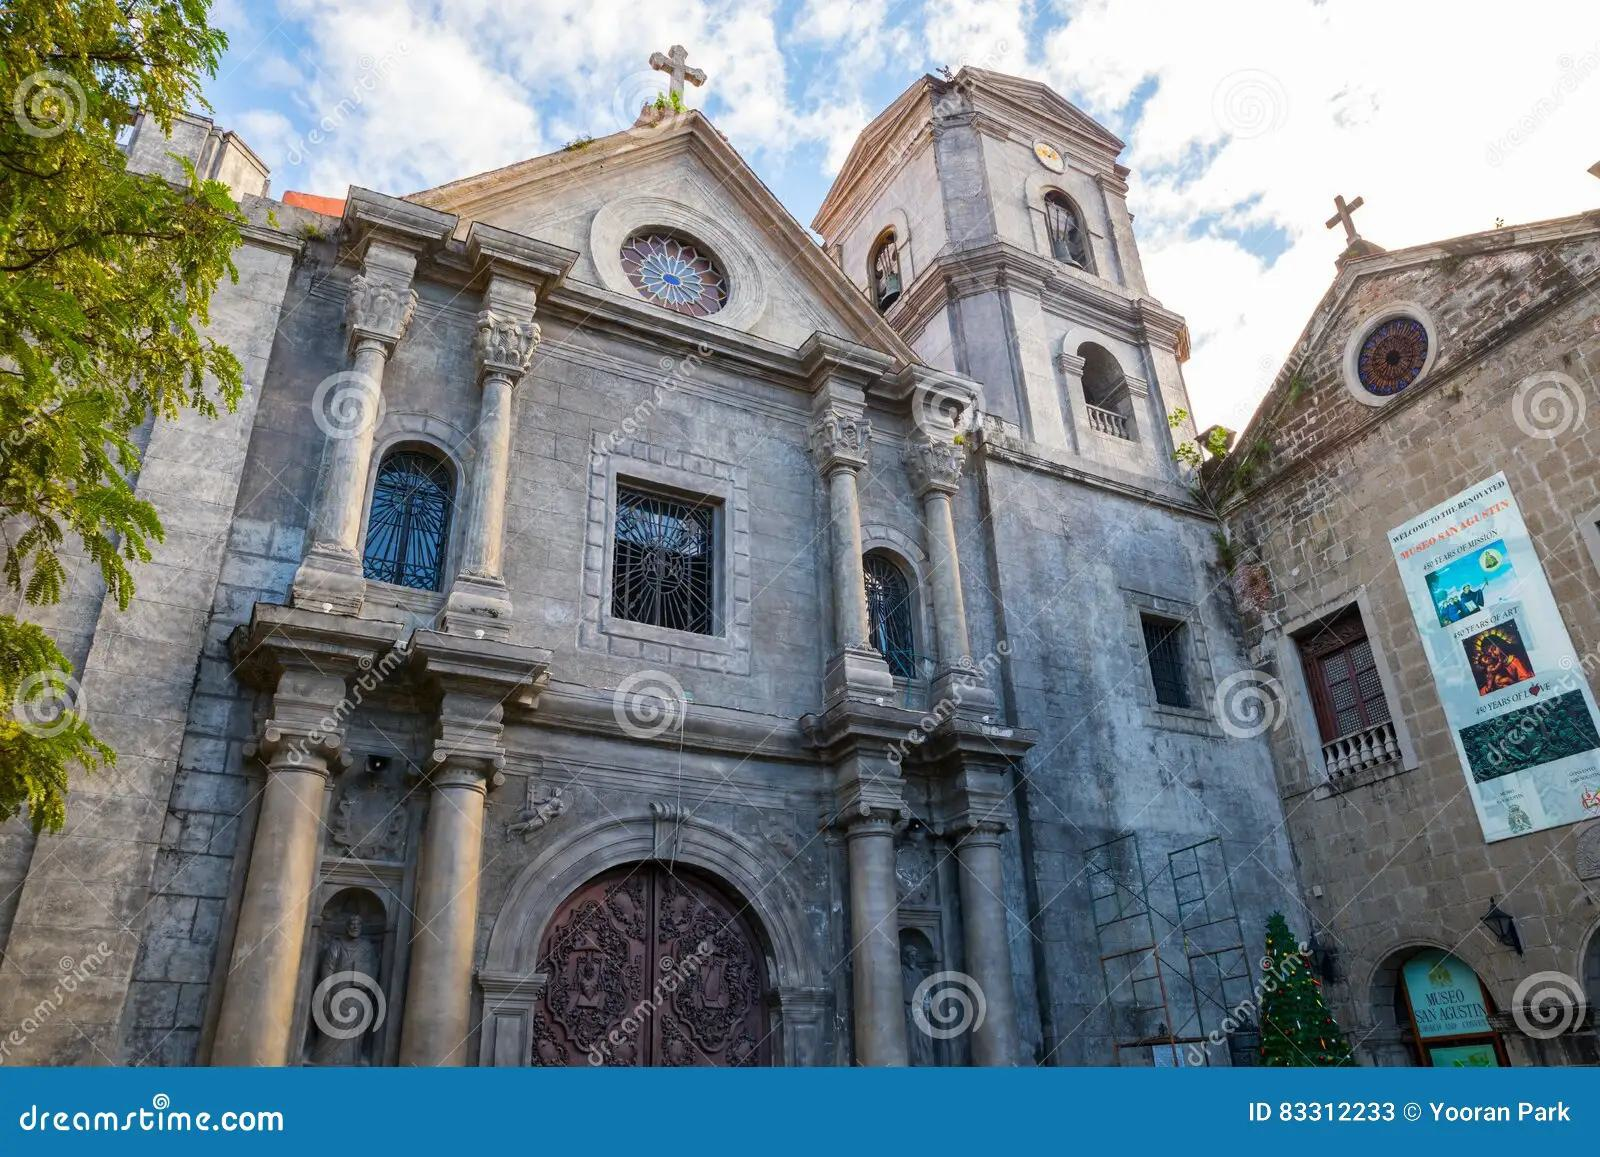san_agustin_church_intramuros_manila: (245, 48, 1284, 1072)
